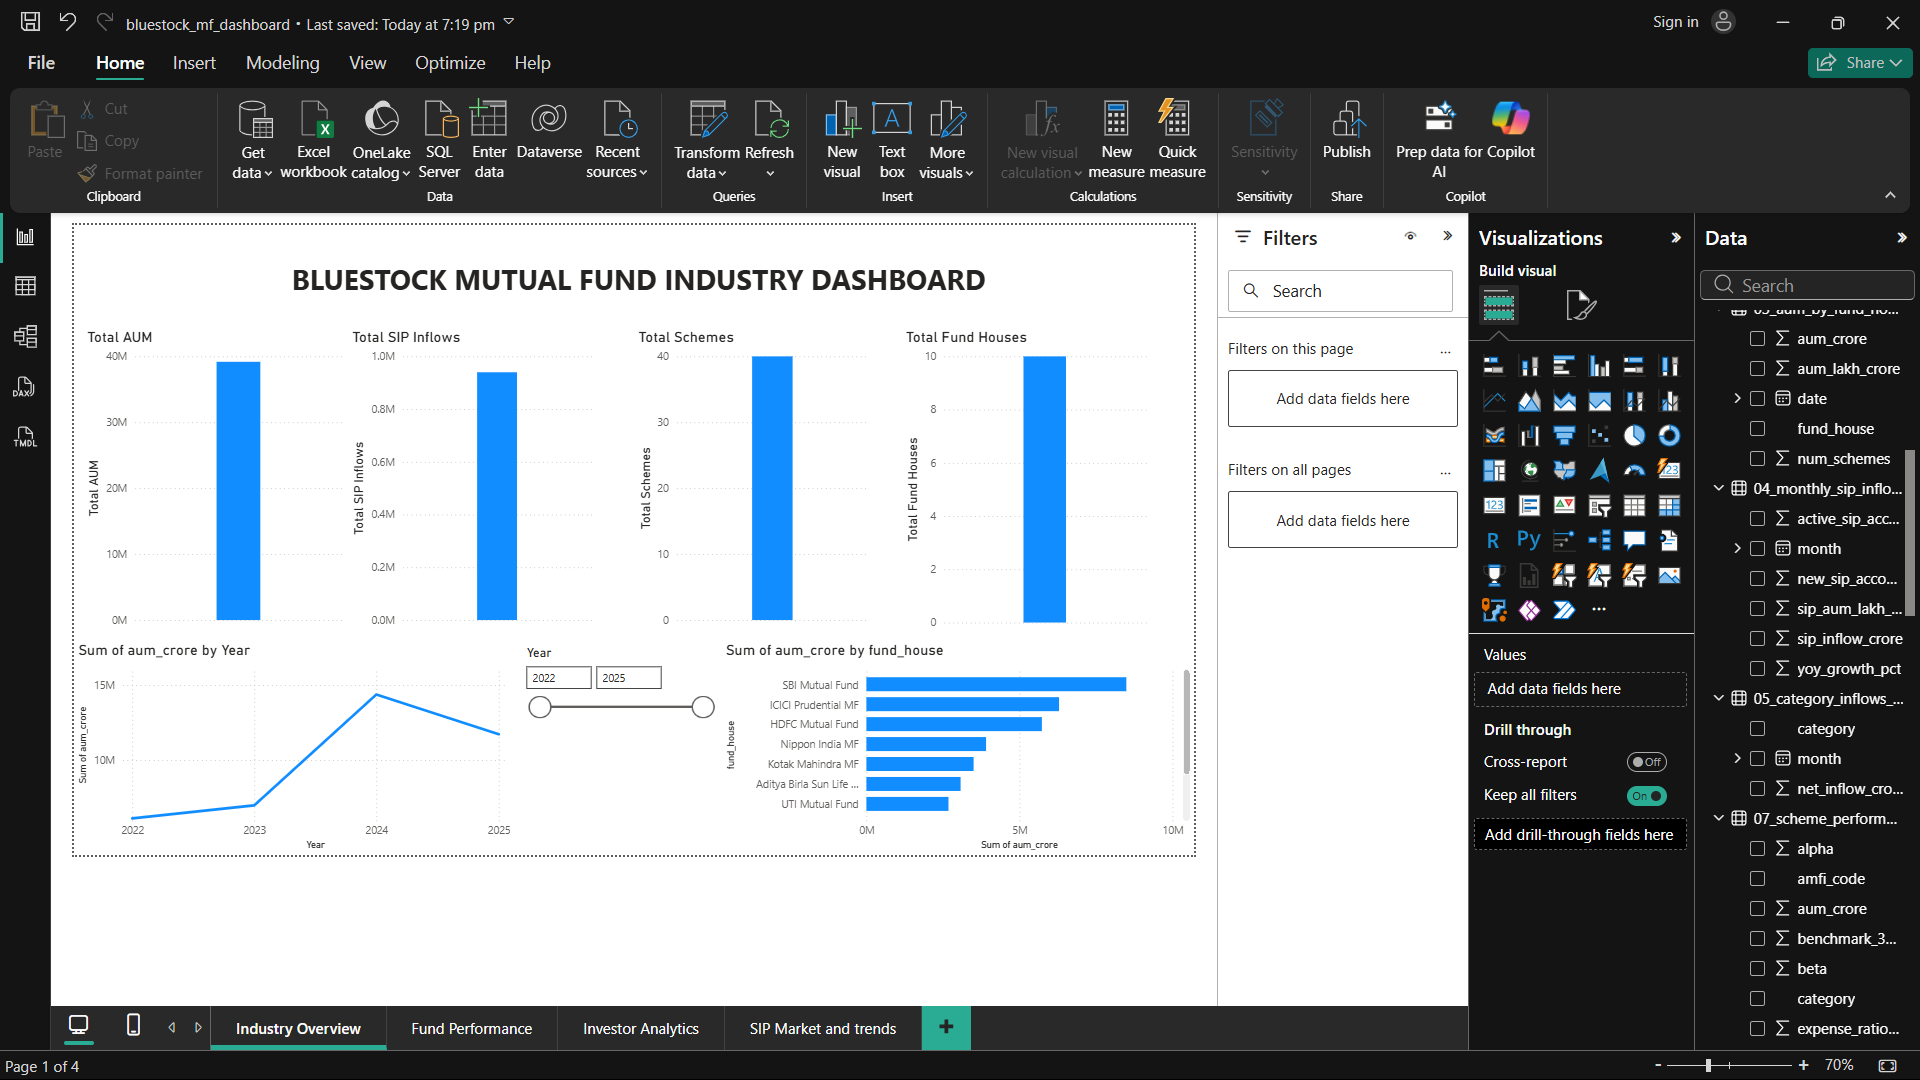

The dashboard page shown, as its layout file describes it:
{"tool":"powerbi","page":{"name":"Industry Overview","canvas":[1280,720],"ordinal":0},"visuals":[{"type":"textbox","box":[9.6,0,1270.7,116.6],"z":0},{"type":"clusteredColumnChart","fields":{"Y":["Calendar.Total AUM"]},"box":[9.6,116.6,303.3,348.5],"z":1000},{"type":"clusteredColumnChart","fields":{"Y":["Calendar.Total SIP Inflows"]},"box":[312.9,116.6,285.4,348.5],"z":2000},{"type":"clusteredColumnChart","fields":{"Y":["Calendar.Total Schemes"]},"box":[639.5,116.6,274.4,348.5],"z":3000},{"type":"clusteredColumnChart","fields":{"Y":["Calendar.Total Fund Houses"]},"box":[945.7,117.1,285.7,351.4],"z":4000},{"type":"lineChart","fields":{"Category":["03_aum_by_fund_house_clean.date.Variation.Date Hierarchy.Year","03_aum_by_fund_house_clean.date.Variation.Date Hierarchy.Quarter","03_aum_by_fund_house_clean.date.Variation.Date Hierarchy.Month","03_aum_by_fund_house_clean.date.Variation.Date Hierarchy.Day"],"Y":["Sum(03_aum_by_fund_house_clean.aum_crore)"]},"box":[0,476.2,503.6,244.3],"z":5000},{"type":"clusteredBarChart","fields":{"Category":["03_aum_by_fund_house_clean.fund_house"],"Y":["Sum(03_aum_by_fund_house_clean.aum_crore)"]},"box":[739.6,476.2,540.7,244.3],"z":6000},{"type":"slicer","fields":{"Values":["Calendar.Year"]},"box":[503.6,476.2,236,244.3],"z":7000}]}

Visuals, with their boxes on the page's 1280x720 design canvas (x1, y1, x2, y2). These are canvas units, not pixel positions in the 1920x1080 screenshot, which may show the page scaled, cropped or inside an application window:
textbox: (10,0,1280,117)
clusteredColumnChart - Calendar.Total AUM: (10,117,313,465)
clusteredColumnChart - Calendar.Total SIP Inflows: (313,117,598,465)
clusteredColumnChart - Calendar.Total Schemes: (640,117,914,465)
clusteredColumnChart - Calendar.Total Fund Houses: (946,117,1231,468)
lineChart - 03_aum_by_fund_house_clean.date.Variation.Date Hierarchy.Year x 03_aum_by_fund_house_clean.date.Variation.Date Hierarchy.Quarter: (0,476,504,720)
clusteredBarChart - 03_aum_by_fund_house_clean.fund_house x Sum(03_aum_by_fund_house_clean.aum_crore): (740,476,1280,720)
slicer - Calendar.Year: (504,476,740,720)
